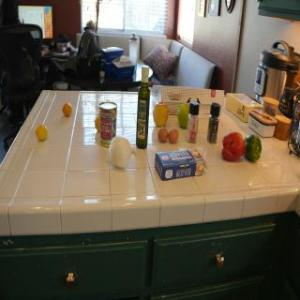bell_pepper: (221, 132, 243, 164), (243, 134, 263, 164)
egg: (157, 126, 168, 144), (168, 128, 179, 144)
onion: (106, 136, 136, 170)
